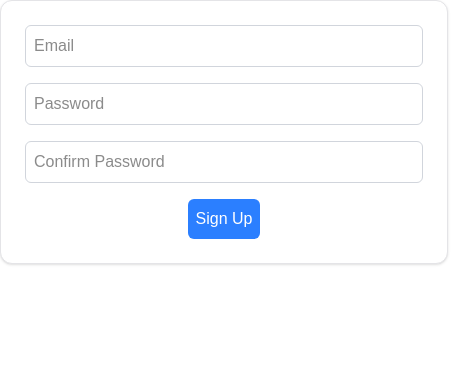
Test: SignUpForm › shows validation errors for empty submit
Click the button "Sign Up" at (224, 219), box [188,199,260,239]
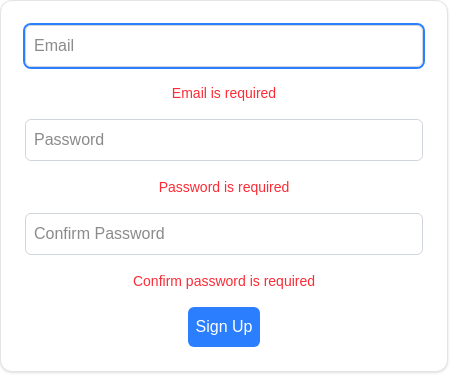
Expected: the text "Email is required" is shown, [172,83,276,103]
Expected: the text "Password is required" is shown, [159,177,289,197]
Expected: the text "Confirm password is required" is shown, [133,271,315,291]
